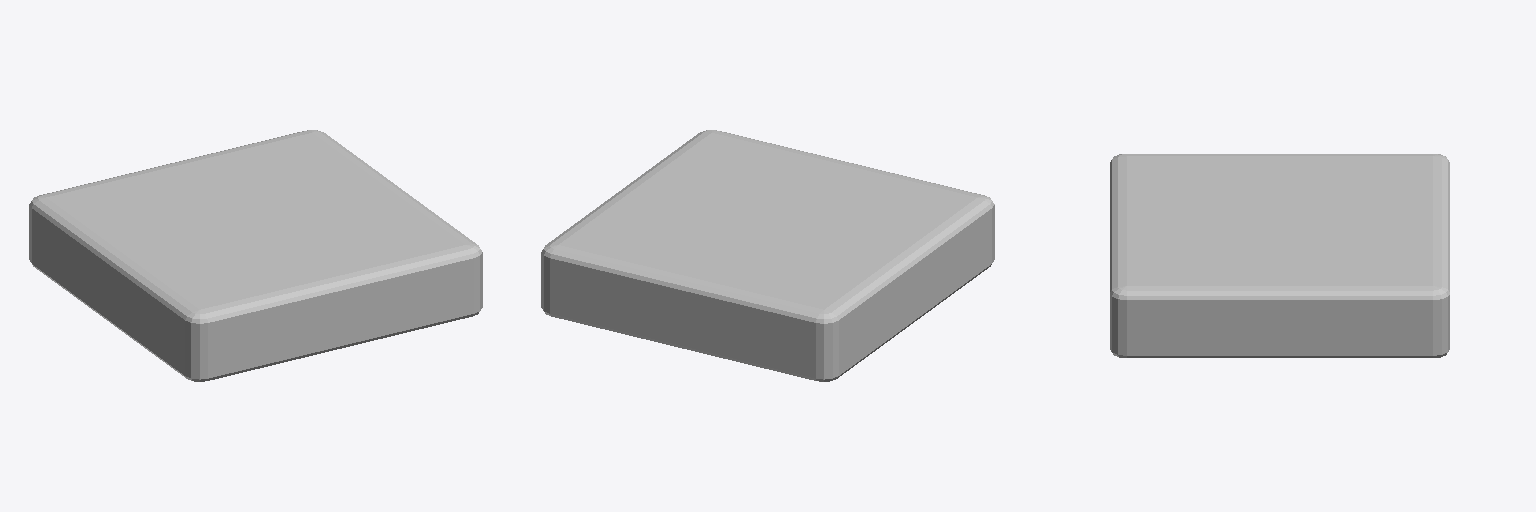
File: Large.obj
3 renders of one model, left to right at view 1: azimuth 30°, elevation 25°; view 2: azimuth 150°, elevation 25°; view 3: azimuth 270°, elevation 25°, orthographic.
Visible parts, largest first — view 1: mesh_0, mesh_1; view 2: mesh_0, mesh_1; view 3: mesh_0, mesh_1.
Part boxes in pixels (left/top/right/bottom): mesh_0: left=29, top=130, right=482, bottom=337; mesh_1: left=29, top=219, right=482, bottom=381; mesh_0: left=541, top=130, right=994, bottom=337; mesh_1: left=541, top=219, right=994, bottom=381; mesh_0: left=1110, top=154, right=1449, bottom=313; mesh_1: left=1110, top=309, right=1449, bottom=357.
Size of the model in its own units: 20 by 4.5 by 20.